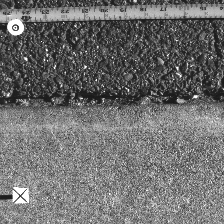circle: (7, 19, 24, 35)
crack: (1, 91, 223, 109)
square: (12, 186, 28, 203)
